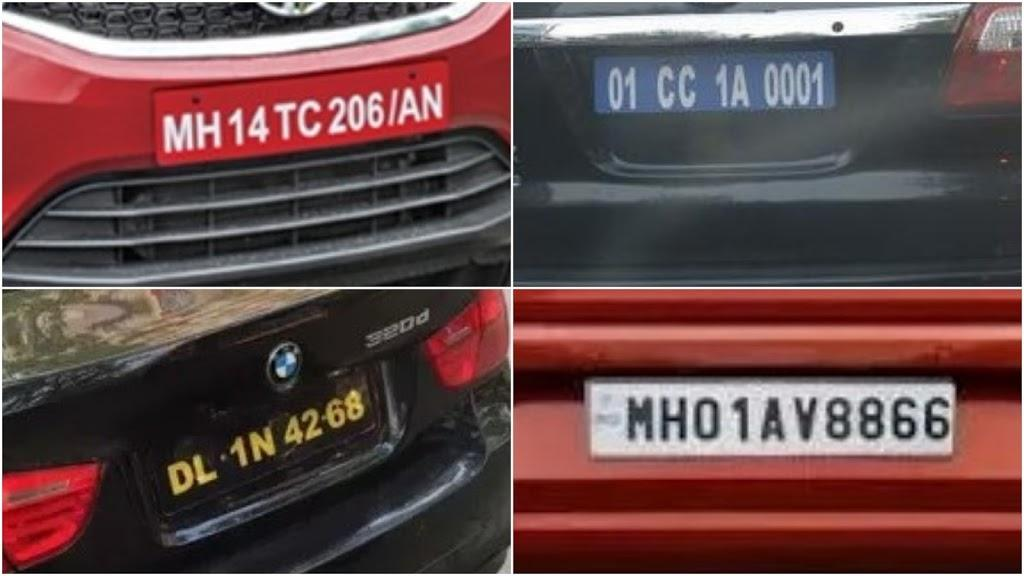licence_plate: (162, 367, 374, 526), (590, 377, 964, 454), (149, 69, 452, 160), (595, 50, 837, 111)
